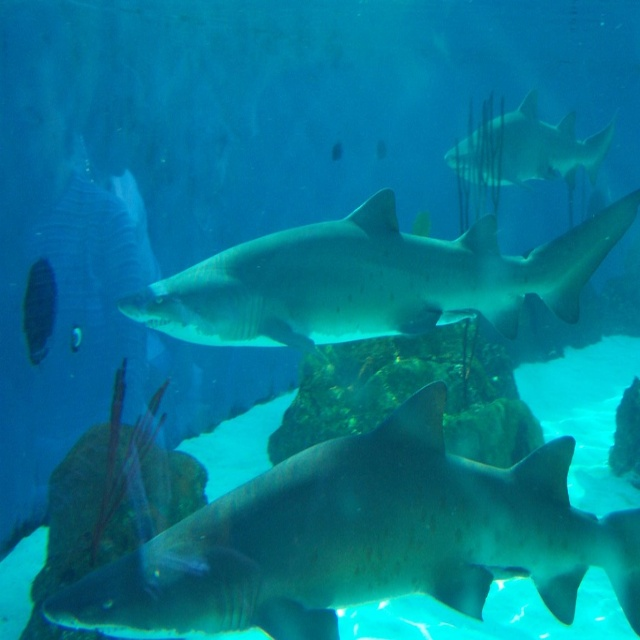Shark: (42, 374, 640, 635), (121, 196, 636, 359)
